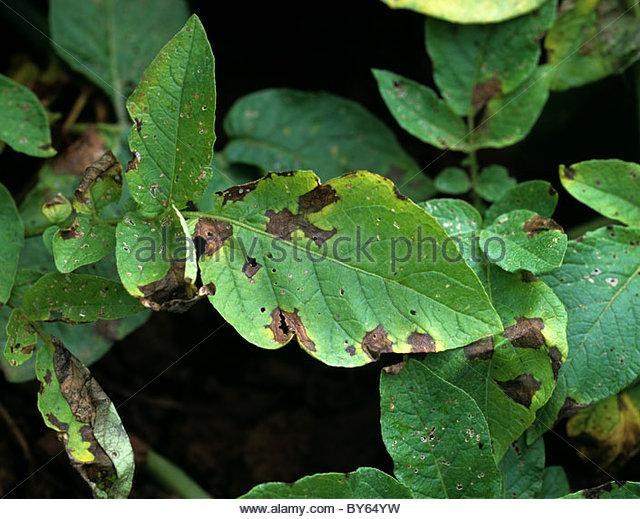Potato leaf late blight: (187, 166, 502, 361), (118, 12, 223, 216), (31, 330, 141, 497), (487, 270, 568, 457), (109, 200, 215, 327), (40, 145, 129, 278)
